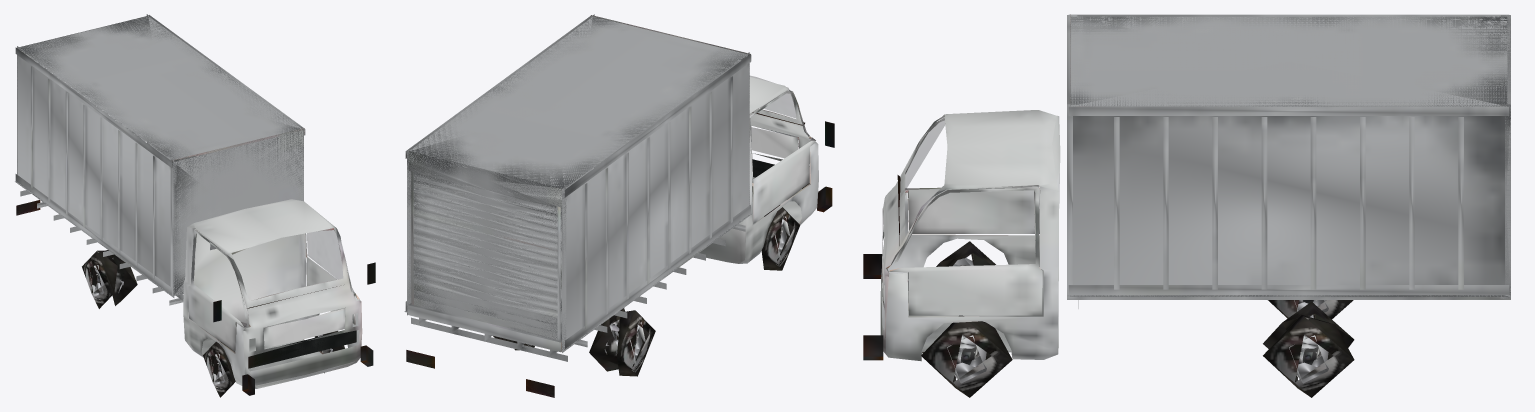
File: kaiun_lod2.glb
3 renders of one model, left to right at view 1: azimuth 30°, elevation 25°; view 2: azimuth 150°, elevation 25°; view 3: azimuth 270°, elevation 25°, orthographic. The views are drawn at different scales.
Parts seen in each view (by area): view 1: Body, Wheel_RR, Wheel_FR; view 2: Body, Wheel_RR, Wheel_FR; view 3: Body, Wheel_RL, Wheel_FL, Wheel_RR, Wheel_FR.
Boxes of the visible parts, left/top/right/bottom form: Body: left=15, top=14, right=375, bottom=395; Wheel_RR: left=82, top=250, right=137, bottom=308; Wheel_FR: left=203, top=340, right=235, bottom=397; Body: left=404, top=14, right=834, bottom=397; Wheel_RR: left=589, top=308, right=655, bottom=376; Wheel_FR: left=761, top=205, right=800, bottom=270; Body: left=863, top=14, right=1510, bottom=361; Wheel_RL: left=1263, top=301, right=1354, bottom=397; Wheel_FL: left=921, top=315, right=1012, bottom=397; Wheel_RR: left=1268, top=300, right=1353, bottom=318; Wheel_FR: left=936, top=241, right=995, bottom=266.
Size of what is drawn, in the model's own units: 2.35 by 2.95 by 5.86.
2 materials, 2 textured.
